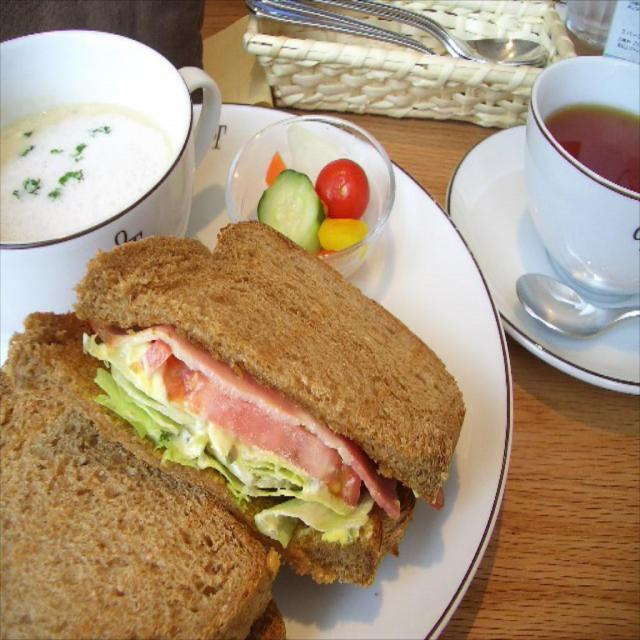Tea: (547, 96, 639, 196)
